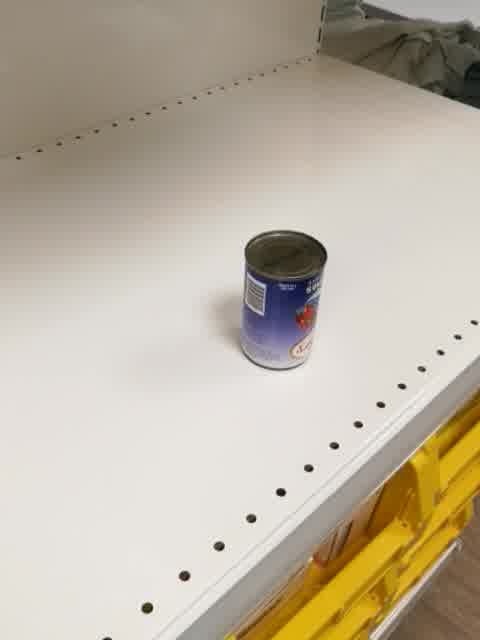sardine: (239, 228, 330, 374)
